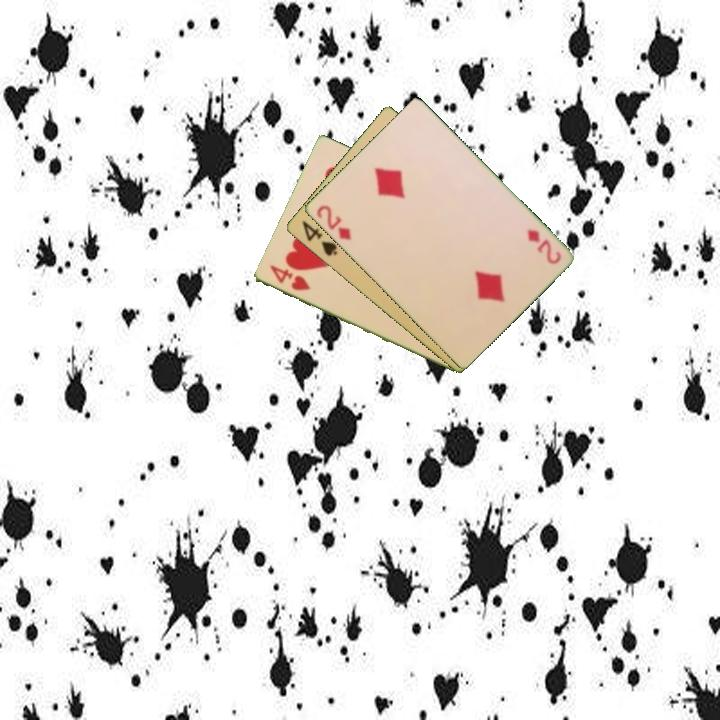2d: (313, 201, 354, 243), (523, 226, 564, 267)
4h: (266, 261, 313, 294)
4s: (298, 217, 340, 259)
